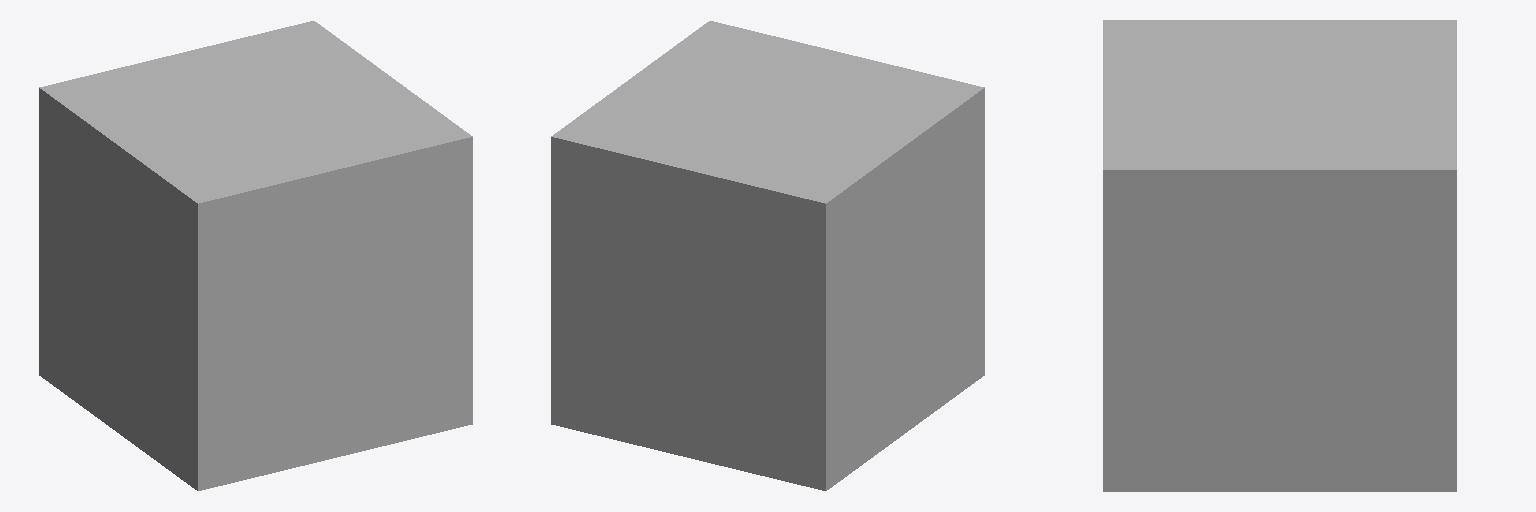
The robot description file, URDF, robot "canopies_arm_bench":
<?xml version="1.0" encoding="utf-8"?>
<!-- =================================================================================== -->
<!-- |    This document was autogenerated by xacro from canopies_arm_bench.urdf.xacro  | -->
<!-- |    EDITING THIS FILE BY HAND IS NOT RECOMMENDED                                 | -->
<!-- =================================================================================== -->
<robot name="canopies_arm_bench">
  <!-- Constants -->
  <gazebo>
    <plugin filename="libgazebo_ros_control.so" name="gazebo_ros_control">
      <ns/>
      <robotSimType>pal_hardware_gazebo/PalHardwareGazebo</robotSimType>
      <robotNamespace/>
      <controlPeriod>0.001</controlPeriod>
    </plugin>
    <plugin filename="libgazebo_ros_p3d.so" name="gazebo_ros_p3d">
      <bodyName>base_footprint</bodyName>
      <topicName>ground_truth_odom</topicName>
      <alwaysOn>true</alwaysOn>
      <updateRate>100.0</updateRate>
    </plugin>
  </gazebo>
  <gazebo>
    <plugin filename="libgazebo_world_odometry.so" name="gazebo_ros_odometry">
      <frameName>base_footprint</frameName>
      <topicName>floating_base_pose_simulated</topicName>
    </plugin>
  </gazebo>
  <gazebo reference="base_imu_link">
    <!-- this is expected to be reparented to pelvis with appropriate offset
         when imu_link is reduced by fixed joint reduction -->
    <!-- todo: this is working with gazebo 1.4, need to write a unit test -->
    <sensor name="imu_sensor" type="imu">
      <always_on>1</always_on>
      <update_rate>1000.0</update_rate>
      <imu>
        <noise>
          <type>gaussian</type>
          <!-- Noise parameters from Boston Dynamics
               (http://gazebosim.org/wiki/Sensor_noise):
                 rates (rad/s): mean=0, stddev=2e-4
                 accels (m/s/s): mean=0, stddev=1.7e-2
                 rate bias (rad/s): 5e-6 - 1e-5
                 accel bias (m/s/s): 1e-1
               Experimentally, simulation provide rates with noise of
               about 1e-3 rad/s and accels with noise of about 1e-1 m/s/s.
               So we don't expect to see the noise unless number of inner iterations
               are increased.

               We will add bias.  In this model, bias is sampled once for rates
               and once for accels at startup; the sign (negative or positive)
               of each bias is then switched with equal probability.  Thereafter,
               the biases are fixed additive offsets.  We choose
               bias means and stddevs to produce biases close to the provided
               data. -->
          <rate>
            <mean>0.0</mean>
            <stddev>2e-4</stddev>
            <bias_mean>0.0000075</bias_mean>
            <bias_stddev>0.0000008</bias_stddev>
          </rate>
          <accel>
            <mean>0.0</mean>
            <stddev>1.7e-2</stddev>
            <bias_mean>0.1</bias_mean>
            <bias_stddev>0.001</bias_stddev>
          </accel>
        </noise>
      </imu>
    </sensor>
  </gazebo>
  <!-- Base link -->
  <link name="base_link">
    <inertial>
      <origin rpy="0 0 0" xyz="0. 0. 0."/>
      <mass value="1e-6"/>
      <inertia ixx="1e-6" ixy="0.0" ixz="0.0" iyy="1e-6" iyz="0.0" izz="1e-6"/>
    </inertial>
    <visual>
      <origin rpy="0 0 0" xyz="0 0 0"/>
      <geometry>
        <box size="0.1 0.1 0.1"/>
      </geometry>
      <material name="">
        <color rgba="0.752941176470588 0.752941176470588 0.752941176470588 1"/>
      </material>
    </visual>
  </link>
  <!-- Base footprint -->
  <link name="base_footprint"/>
  <joint name="base_footprint_joint" type="fixed">
    <origin rpy="0 0 0" xyz="0 0 0.8"/>
    <child link="base_link"/>
    <parent link="base_footprint"/>
  </joint>
  <!-- gazebo parameters are given here for base_link thru base_footprint -->
  <gazebo reference="base_footprint">
    <kp>100000000.0</kp>
    <kd>10.0</kd>
    <mu1>0.1</mu1>
    <mu2>0.1</mu2>
    <fdir1>1 0 0</fdir1>
    <maxVel>10.0</maxVel>
    <minDepth>0.0005</minDepth>
    <laserRetro>0</laserRetro>
  </gazebo>
  <link name="arm_right_1_link">
    <inertial>
      <origin rpy="0 0 0" xyz="0.104590177873438 -0.0135580162788852 -0.0309966654078049"/>
      <mass value="0.876973685013"/>
      <inertia ixx="0.000601489961747" ixy="8.34336374218e-05" ixz="0.000317156454887" iyy="0.00185108820021" iyz="-2.48712752724e-05" izz="0.00165524533455"/>
    </inertial>
    <visual>
      <origin rpy="0 0 0" xyz="0 0 0"/>
      <geometry>
        <mesh filename="package://canopies_description/meshes/arm_right_1_link.STL"/>
      </geometry>
      <material name="">
        <color rgba="0.752941176470588 0.752941176470588 0.752941176470588 1"/>
      </material>
    </visual>
    <collision>
      <origin rpy="0 0 0" xyz="0 0 0"/>
      <geometry>
        <mesh filename="package://canopies_description/meshes/arm_right_1_link_convex.STL"/>
      </geometry>
    </collision>
  </link>
  <joint name="arm_right_1_joint" type="revolute">
    <origin rpy="0 0 -1.5708" xyz="0.18155 -0.203 -0.0151"/>
    <parent link="base_link"/>
    <child link="arm_right_1_link"/>
    <axis xyz="0 0 1"/>
    <limit effort="50" lower="-1.1854" upper="1.5708" velocity="2"/>
  </joint>
  <link name="arm_right_2_link">
    <inertial>
      <origin rpy="0 0 0" xyz="-0.103229215921456 -6.62803677657919E-05 0.040391671720359"/>
      <mass value="0.794071310034"/>
      <inertia ixx="0.000785583237145" ixy="-2.0052022231e-07" ixz="-0.000281390136283" iyy="0.00123739549319" iyz="-9.50161622259e-07" izz="0.00128756739474"/>
    </inertial>
    <visual>
      <origin rpy="0 0 0" xyz="0 0 0"/>
      <geometry>
        <mesh filename="package://canopies_description/meshes/arm_right_2_link.STL"/>
      </geometry>
      <material name="">
        <color rgba="0.752941176470588 0.752941176470588 0.752941176470588 1"/>
      </material>
    </visual>
    <collision>
      <origin rpy="0 0 0" xyz="0 0 0"/>
      <geometry>
        <mesh filename="package://canopies_description/meshes/arm_right_2_link_convex.STL"/>
      </geometry>
    </collision>
  </link>
  <joint name="arm_right_2_joint" type="revolute">
    <origin rpy="1.5707963267949 0 3.14159265358979" xyz="0.130000000000049 -0.0482999996185306 -0.0399999999998413"/>
    <parent link="arm_right_1_link"/>
    <child link="arm_right_2_link"/>
    <axis xyz="0 0 1"/>
    <limit effort="50" lower="-1.5708" upper="1.5708" velocity="2"/>
  </joint>
  <link name="arm_right_3_link">
    <inertial>
      <origin rpy="0 0 0" xyz="0.0141106542132395 0.0147731157720475 -0.129722816418797"/>
      <mass value="0.926307323067"/>
      <inertia ixx="0.00268729618779" ixy="5.93138944713e-06" ixz="6.98081651e-05" iyy="0.0022624306041" iyz="0.000217390694395" izz="0.000728199500067"/>
    </inertial>
    <visual>
      <origin rpy="0 0 0" xyz="0 0 0"/>
      <geometry>
        <mesh filename="package://canopies_description/meshes/arm_right_3_link.STL"/>
      </geometry>
      <material name="">
        <color rgba="0.752941176470588 0.752941176470588 0.752941176470588 1"/>
      </material>
    </visual>
    <collision>
      <origin rpy="0 0 0" xyz="0 0 0"/>
      <geometry>
        <mesh filename="package://canopies_description/meshes/arm_right_3_link_convex.STL"/>
      </geometry>
    </collision>
  </link>
  <joint name="arm_right_3_joint" type="revolute">
    <origin rpy="0 1.5707963267949 0" xyz="-0.154945006346293 0 0.0500038538537946"/>
    <parent link="arm_right_2_link"/>
    <child link="arm_right_3_link"/>
    <axis xyz="0 0 1"/>
    <limit effort="50" lower="-2.4435" upper="2.4435" velocity="2"/>
  </joint>
  <link name="arm_right_4_link">
    <inertial>
      <origin rpy="0 0 0" xyz="-0.0270943216353722 -0.0988821520517052 0.0405150394017644"/>
      <mass value="0.82292797291"/>
      <inertia ixx="0.00134281613791" ixy="0.000105745458534" ixz="8.84774161323e-05" iyy="0.000825129978916" iyz="0.000306718405566" izz="0.00139879333095"/>
    </inertial>
    <visual>
      <origin rpy="0 0 0" xyz="0 0 0"/>
      <geometry>
        <mesh filename="package://canopies_description/meshes/arm_right_4_link.STL"/>
      </geometry>
      <material name="">
        <color rgba="0.752941176470588 0.752941176470588 0.752941176470588 1"/>
      </material>
    </visual>
    <collision>
      <origin rpy="0 0 0" xyz="0 0 0"/>
      <geometry>
        <mesh filename="package://canopies_description/meshes/arm_right_4_link_convex.STL"/>
      </geometry>
    </collision>
  </link>
  <joint name="arm_right_4_joint" type="revolute">
    <origin rpy="1.5707963267949 -0.436332316595644 -1.5707963267949" xyz="0.049993121155 0.0199999999949542 -0.165099999970051"/>
    <parent link="arm_right_3_link"/>
    <child link="arm_right_4_link"/>
    <axis xyz="0 0 -1"/>
    <limit effort="50" lower="-1.5708" upper="2.3562" velocity="2"/>
  </joint>
  <link name="arm_right_5_link">
    <inertial>
      <origin rpy="0 0 0" xyz="4.30740072904223E-05 -0.00848243416126348 -0.122150591344461"/>
      <mass value="0.748930343342"/>
      <inertia ixx="0.00165448487772" ixy="7.13153097641e-08" ixz="5.94335178566e-07" iyy="0.0018865698396" iyz="-1.99881659135e-05" izz="0.000485154620181"/>
    </inertial>
    <visual>
      <origin rpy="0 0 0" xyz="0 0 0"/>
      <geometry>
        <mesh filename="package://canopies_description/meshes/arm_right_5_link.STL"/>
      </geometry>
      <material name="">
        <color rgba="0.752941176470588 0.752941176470588 0.752941176470588 1"/>
      </material>
    </visual>
    <collision>
      <origin rpy="0 0 0" xyz="0 0 0"/>
      <geometry>
        <mesh filename="package://canopies_description/meshes/arm_right_5_link_convex.STL"/>
      </geometry>
    </collision>
  </link>
  <joint name="arm_right_5_joint" type="revolute">
    <origin rpy="1.57079632679489 0 2.70526034059123" xyz="-0.0473796779453546 -0.148930079190456 0.0500006723402781"/>
    <parent link="arm_right_4_link"/>
    <child link="arm_right_5_link"/>
    <axis xyz="0 0 1"/>
    <limit effort="50" lower="-2.4435" upper="2.4435" velocity="2"/>
  </joint>
  <link name="arm_right_6_link">
    <inertial>
      <origin rpy="0 0 0" xyz="2.67981412671592E-05 -0.0996444474227959 0.0324891780507251"/>
      <mass value="0.574499982762"/>
      <inertia ixx="0.0006497241529" ixy="-2.88560094495e-07" ixz="7.26158980543e-07" iyy="0.00035431768666" iyz="0.000130103098394" izz="0.000674307517909"/>
    </inertial>
    <visual>
      <origin rpy="0 0 0" xyz="0 0 0"/>
      <geometry>
        <mesh filename="package://canopies_description/meshes/arm_right_6_link.STL"/>
      </geometry>
      <material name="">
        <color rgba="0.752941176470588 0.752941176470588 0.752941176470588 1"/>
      </material>
    </visual>
    <collision>
      <origin rpy="0 0 0" xyz="0 0 0"/>
      <geometry>
        <mesh filename="package://canopies_description/meshes/arm_right_6_link_convex.STL"/>
      </geometry>
    </collision>
  </link>
  <joint name="arm_right_6_joint" type="revolute">
    <origin rpy="1.57079225562289 0 3.14159265358979" xyz="0 -0.0394965876541469 -0.165050003051757"/>
    <parent link="arm_right_5_link"/>
    <child link="arm_right_6_link"/>
    <axis xyz="0 0 -1"/>
    <limit effort="50" lower="-2.0944" upper="2.0944" velocity="2"/>
  </joint>
  <link name="arm_right_7_link">
    <inertial>
      <origin rpy="0 0 0" xyz="8.56652769554156E-12 1.39648292929451E-11 0.00740178372048539"/>
      <mass value="0.04645419506"/>
      <inertia ixx="1.50415963926e-05" ixy="1.85363213141e-15" ixz="1.20426857767e-14" iyy="1.5041596398e-05" iyz="-2.32028280159e-14" izz="1.40885078823e-05"/>
    </inertial>
    <visual>
      <origin rpy="0 0 0" xyz="0 0 0"/>
      <geometry>
        <mesh filename="package://canopies_description/meshes/arm_right_7_link.STL"/>
      </geometry>
      <material name="">
        <color rgba="0.752941176470588 0.752941176470588 0.752941176470588 1"/>
      </material>
    </visual>
    <collision>
      <origin rpy="0 0 0" xyz="0 0 0"/>
      <geometry>
        <mesh filename="package://canopies_description/meshes/arm_right_7_link_convex.STL"/>
      </geometry>
    </collision>
  </link>
  <joint name="arm_right_7_joint" type="revolute">
    <origin rpy="0 1.57079225564058 1.57079632319904" xyz="0 -0.146000162750523 0.0390015522533293"/>
    <parent link="arm_right_6_link"/>
    <child link="arm_right_7_link"/>
    <axis xyz="0 0 1"/>
    <limit effort="50" lower="-2.4435" upper="2.4435" velocity="2"/>
  </joint>
  <!-- Gazebo tags -->
  <gazebo reference="arm_right_1_link">
    <mu1>0.9</mu1>
    <mu2>0.9</mu2>
    <material>Gazebo/DarkGrey</material>
  </gazebo>
  <gazebo reference="arm_right_2_link">
    <mu1>0.9</mu1>
    <mu2>0.9</mu2>
    <material>Gazebo/DarkGrey</material>
  </gazebo>
  <gazebo reference="arm_right_3_link">
    <mu1>0.9</mu1>
    <mu2>0.9</mu2>
    <material>Gazebo/DarkGrey</material>
  </gazebo>
  <gazebo reference="arm_right_4_link">
    <mu1>0.9</mu1>
    <mu2>0.9</mu2>
    <material>Gazebo/DarkGrey</material>
  </gazebo>
  <gazebo reference="arm_right_5_link">
    <mu1>0.9</mu1>
    <mu2>0.9</mu2>
    <material>Gazebo/DarkGrey</material>
  </gazebo>
  <gazebo reference="arm_right_6_link">
    <mu1>0.9</mu1>
    <mu2>0.9</mu2>
    <material>Gazebo/DarkGrey</material>
  </gazebo>
  <gazebo reference="arm_right_7_link">
    <mu1>0.9</mu1>
    <mu2>0.9</mu2>
    <material>Gazebo/DarkGrey</material>
  </gazebo>
  <gazebo reference="arm_right_1_joint">
    <implicitSpringDamper>1</implicitSpringDamper>
  </gazebo>
  <gazebo reference="arm_right_2_joint">
    <implicitSpringDamper>1</implicitSpringDamper>
  </gazebo>
  <gazebo reference="arm_right_3_joint">
    <implicitSpringDamper>1</implicitSpringDamper>
  </gazebo>
  <gazebo reference="arm_right_4_joint">
    <implicitSpringDamper>1</implicitSpringDamper>
  </gazebo>
  <gazebo reference="arm_right_5_joint">
    <implicitSpringDamper>1</implicitSpringDamper>
  </gazebo>
  <gazebo reference="arm_right_6_joint">
    <implicitSpringDamper>1</implicitSpringDamper>
  </gazebo>
  <gazebo reference="arm_right_7_joint">
    <implicitSpringDamper>1</implicitSpringDamper>
  </gazebo>
  <transmission name="arm_right_1_trans">
    <type>transmission_interface/SimpleTransmission</type>
    <actuator name="arm_right_1_motor">
      <mechanicalReduction>1.0</mechanicalReduction>
    </actuator>
    <joint name="arm_right_1_joint">
      <offset>0</offset>
      <hardwareInterface>hardware_interface/PositionJointInterface</hardwareInterface>
      <hardwareInterface>hardware_interface/EffortJointInterface</hardwareInterface>
      <hardwareInterface>hardware_interface/VelocityJointInterface</hardwareInterface>
      <hardwareInterface>hardware_interface/JointStateInterface</hardwareInterface>
    </joint>
  </transmission>
  <transmission name="arm_right_2_trans">
    <type>transmission_interface/SimpleTransmission</type>
    <actuator name="arm_right_2_motor">
      <mechanicalReduction>1.0</mechanicalReduction>
    </actuator>
    <joint name="arm_right_2_joint">
      <offset>0</offset>
      <hardwareInterface>hardware_interface/PositionJointInterface</hardwareInterface>
      <hardwareInterface>hardware_interface/EffortJointInterface</hardwareInterface>
      <hardwareInterface>hardware_interface/VelocityJointInterface</hardwareInterface>
      <hardwareInterface>hardware_interface/JointStateInterface</hardwareInterface>
    </joint>
  </transmission>
  <transmission name="arm_right_3_trans">
    <type>transmission_interface/SimpleTransmission</type>
    <actuator name="arm_right_3_motor">
      <mechanicalReduction>1.0</mechanicalReduction>
    </actuator>
    <joint name="arm_right_3_joint">
      <offset>0</offset>
      <hardwareInterface>hardware_interface/PositionJointInterface</hardwareInterface>
      <hardwareInterface>hardware_interface/EffortJointInterface</hardwareInterface>
      <hardwareInterface>hardware_interface/VelocityJointInterface</hardwareInterface>
      <hardwareInterface>hardware_interface/JointStateInterface</hardwareInterface>
    </joint>
  </transmission>
  <transmission name="arm_right_4_trans">
    <type>transmission_interface/SimpleTransmission</type>
    <actuator name="arm_right_4_motor">
      <mechanicalReduction>1.0</mechanicalReduction>
    </actuator>
    <joint name="arm_right_4_joint">
      <offset>0</offset>
      <hardwareInterface>hardware_interface/PositionJointInterface</hardwareInterface>
      <hardwareInterface>hardware_interface/EffortJointInterface</hardwareInterface>
      <hardwareInterface>hardware_interface/VelocityJointInterface</hardwareInterface>
      <hardwareInterface>hardware_interface/JointStateInterface</hardwareInterface>
    </joint>
  </transmission>
  <transmission name="arm_right_5_trans">
    <type>transmission_interface/SimpleTransmission</type>
    <actuator name="arm_right_5_motor">
      <mechanicalReduction>1.0</mechanicalReduction>
    </actuator>
    <joint name="arm_right_5_joint">
      <offset>0</offset>
      <hardwareInterface>hardware_interface/PositionJointInterface</hardwareInterface>
      <hardwareInterface>hardware_interface/EffortJointInterface</hardwareInterface>
      <hardwareInterface>hardware_interface/VelocityJointInterface</hardwareInterface>
      <hardwareInterface>hardware_interface/JointStateInterface</hardwareInterface>
    </joint>
  </transmission>
  <transmission name="arm_right_6_trans">
    <type>transmission_interface/SimpleTransmission</type>
    <actuator name="arm_right_6_motor">
      <mechanicalReduction>1.0</mechanicalReduction>
    </actuator>
    <joint name="arm_right_6_joint">
      <offset>0</offset>
      <hardwareInterface>hardware_interface/PositionJointInterface</hardwareInterface>
      <hardwareInterface>hardware_interface/EffortJointInterface</hardwareInterface>
      <hardwareInterface>hardware_interface/VelocityJointInterface</hardwareInterface>
      <hardwareInterface>hardware_interface/JointStateInterface</hardwareInterface>
    </joint>
  </transmission>
  <transmission name="arm_right_7_trans">
    <type>transmission_interface/SimpleTransmission</type>
    <actuator name="arm_right_7_motor">
      <mechanicalReduction>1.0</mechanicalReduction>
    </actuator>
    <joint name="arm_right_7_joint">
      <offset>0</offset>
      <hardwareInterface>hardware_interface/PositionJointInterface</hardwareInterface>
      <hardwareInterface>hardware_interface/EffortJointInterface</hardwareInterface>
      <hardwareInterface>hardware_interface/VelocityJointInterface</hardwareInterface>
      <hardwareInterface>hardware_interface/JointStateInterface</hardwareInterface>
    </joint>
  </transmission>
</robot>

--- What the picture shows (computed from the rendered views, not written in the file) ---
The picture shows the robot from 3 angles, left to right: view 1: azimuth 30°, elevation 25°; view 2: azimuth 150°, elevation 25°; view 3: azimuth 270°, elevation 25°; orthographic projection.
Robot: canopies_arm_bench — 9 links, 8 joints (7 revolute, 1 fixed); root link base_footprint; default pose: every joint at zero.
Visible links, largest first — view 1: base_link; view 2: base_link; view 3: base_link.
Link boxes in pixels (x1=…): base_link: x1=39, y1=21, x2=472, y2=490; base_link: x1=551, y1=21, x2=984, y2=490; base_link: x1=1103, y1=20, x2=1456, y2=491.
Size in the robot's own frame: 0.1 by 0.1 by 0.1 metres.
Meshes: 7 distinct files referenced, 0 mesh visuals loaded (none loaded); not drawn: 7 (reference not matched to a file when rendering).